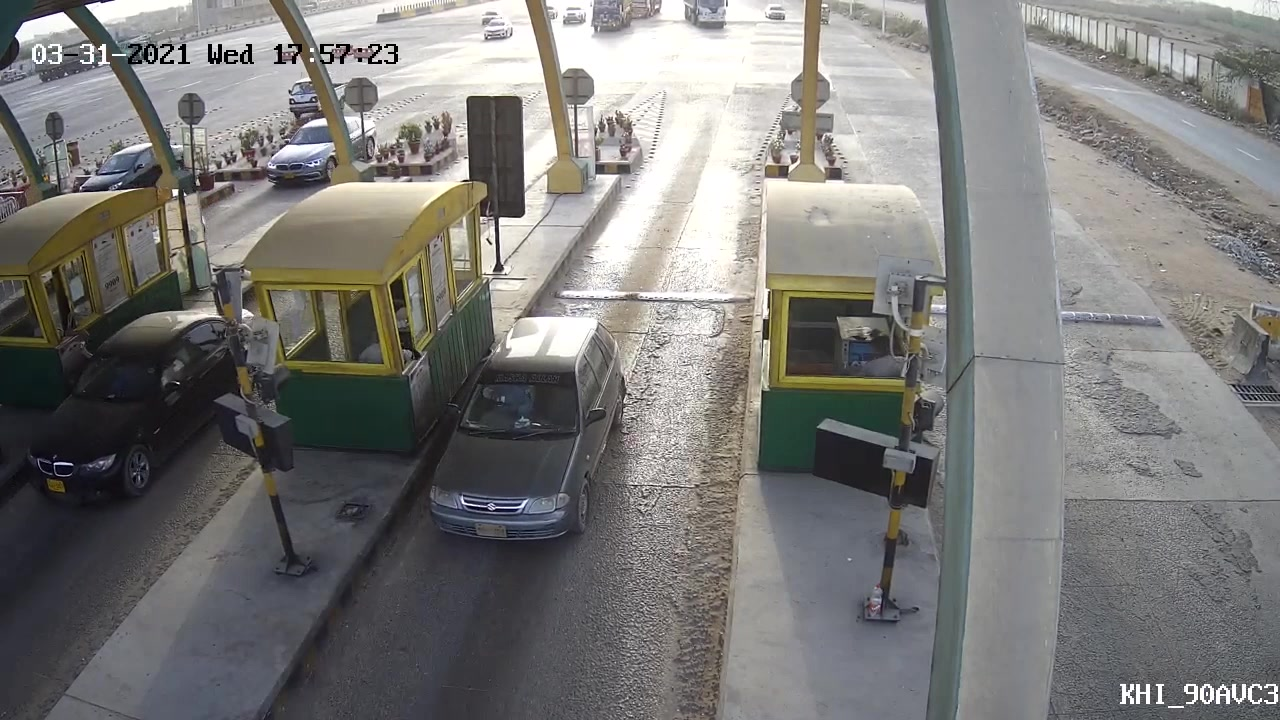F1: (420, 312, 636, 549)
